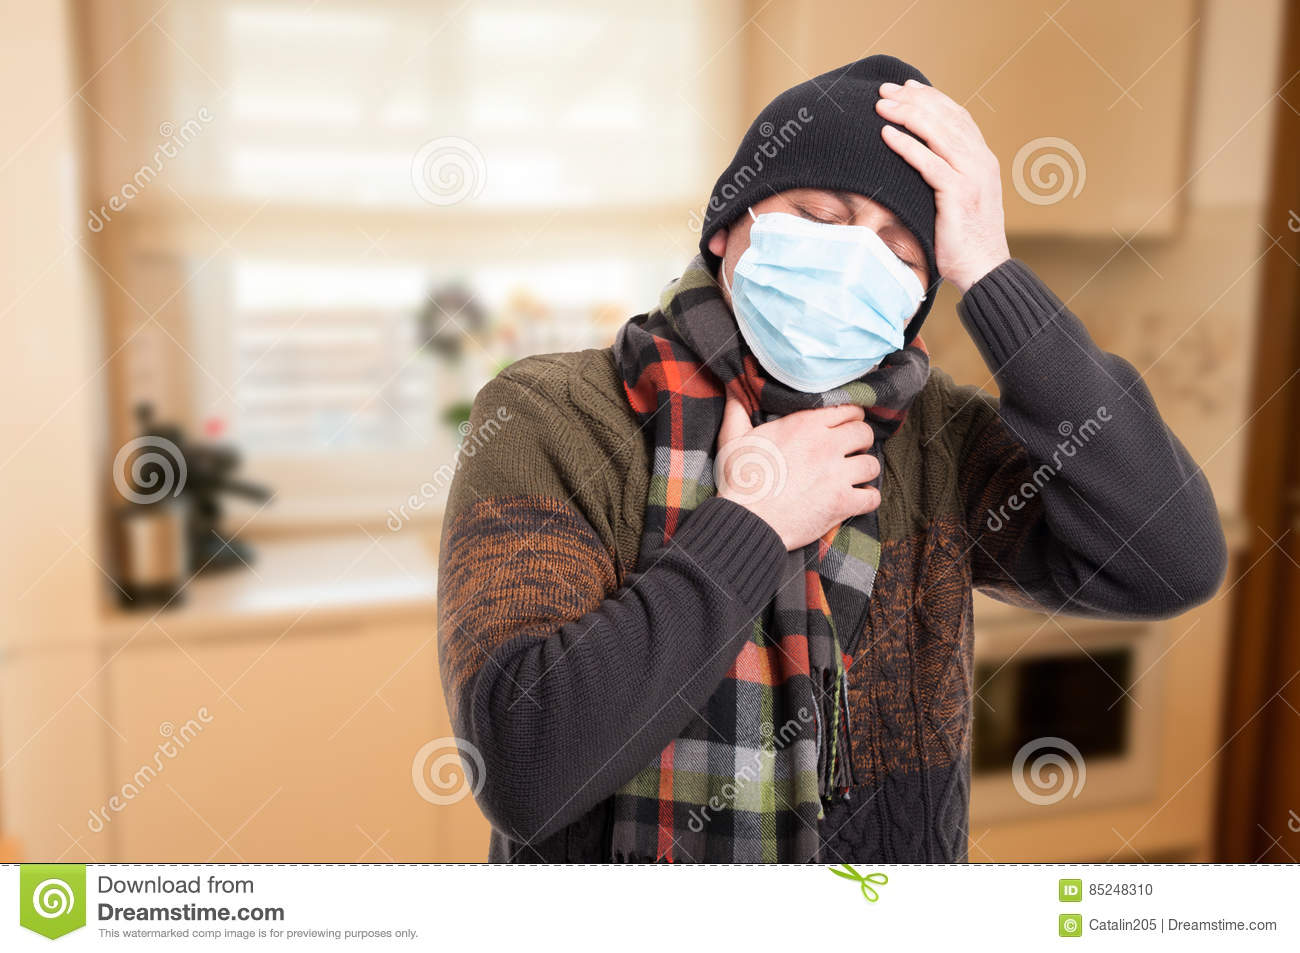mask: (727, 210, 929, 396)
